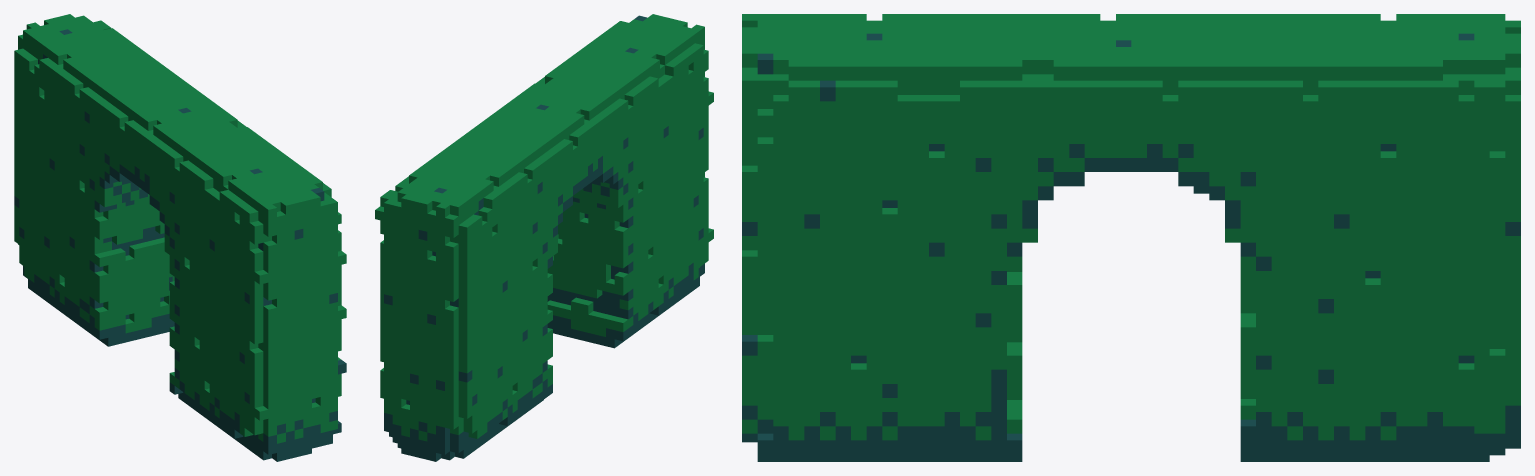
File: Maze3Archway.fbx
3 views of the same model, side by side, from view 1: azimuth 30°, elevation 25°; view 2: azimuth 150°, elevation 25°; view 3: azimuth 270°, elevation 25° (orthographic). The views are drawn at different scales.
Visible parts, largest first — view 1: Maze3Archway; view 2: Maze3Archway; view 3: Maze3Archway.
Part boxes in pixels (<box>): Maze3Archway: <box>14,14,346,461</box>; Maze3Archway: <box>375,14,713,461</box>; Maze3Archway: <box>742,14,1520,461</box>.
Bounding box in the file's own units: 100 × 280 × 500.
